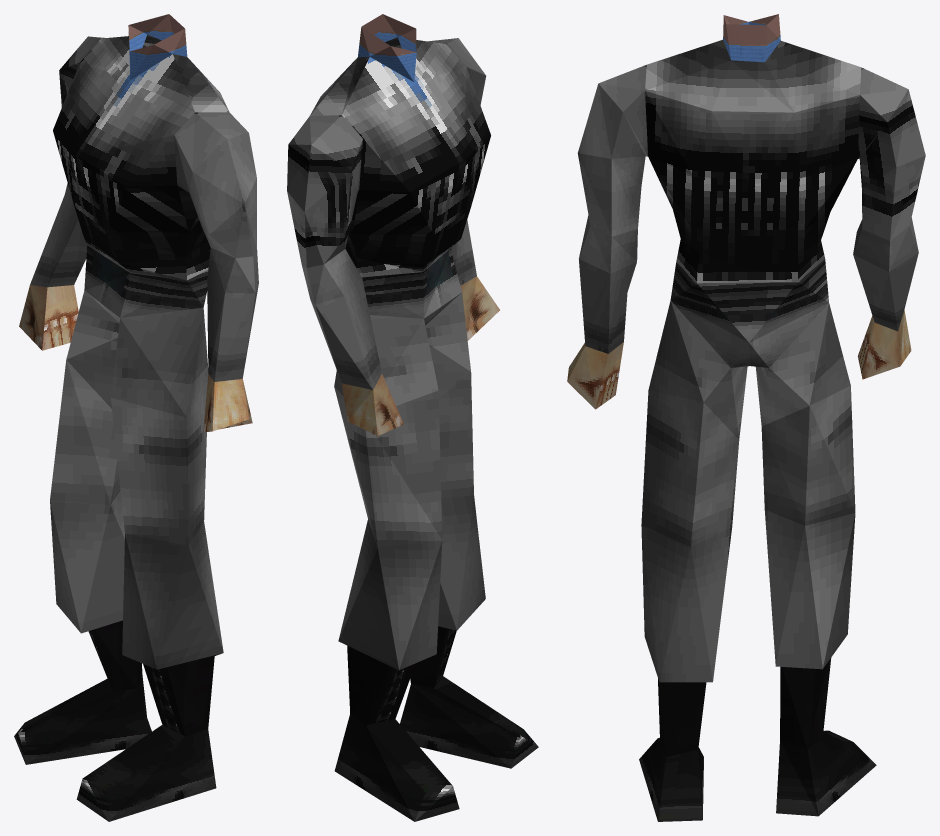
Rendered from primary_036.glb.
3 views of the same model, side by side, from view 1: azimuth 30°, elevation 25°; view 2: azimuth 150°, elevation 25°; view 3: azimuth 270°, elevation 25° (orthographic). The views are drawn at different scales.
Visible parts, largest first — view 1: Object; view 2: Object; view 3: Object.
Part boxes in pixels (x1,y1,x2,y2): Object: (14, 14, 258, 821); Object: (287, 14, 538, 821); Object: (567, 14, 925, 821).
Size of the model in its own units: 0.3901 by 1.83 by 0.7429.
Materials: 69 (69 with a texture image).
